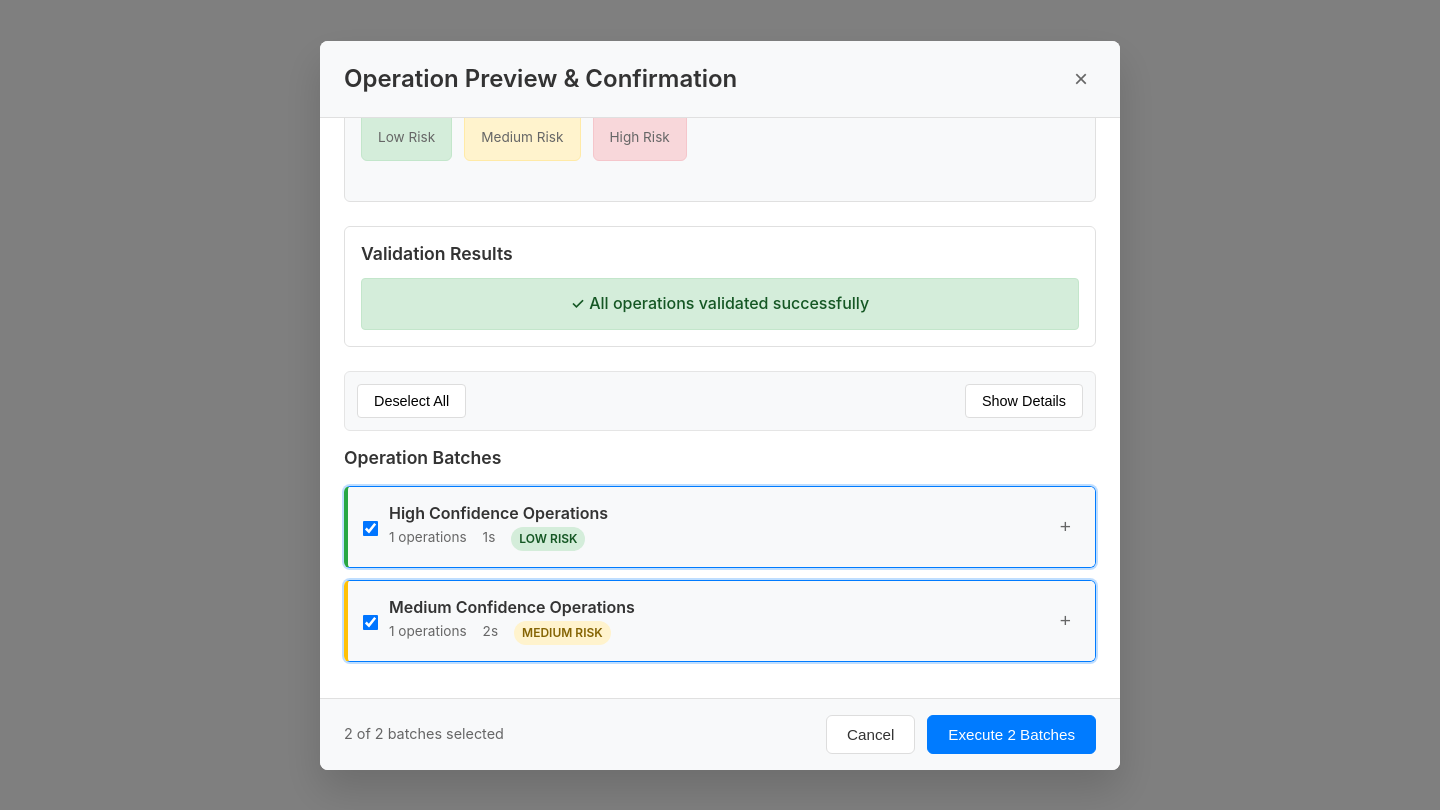
Scenario: OperationPreviewModal › Batch Expansion › should expand batch to show operations
(page scrolled)
Click the button named "Expand batch" at (1065, 527), box x1=1052 y1=512 x2=1079 y2=542
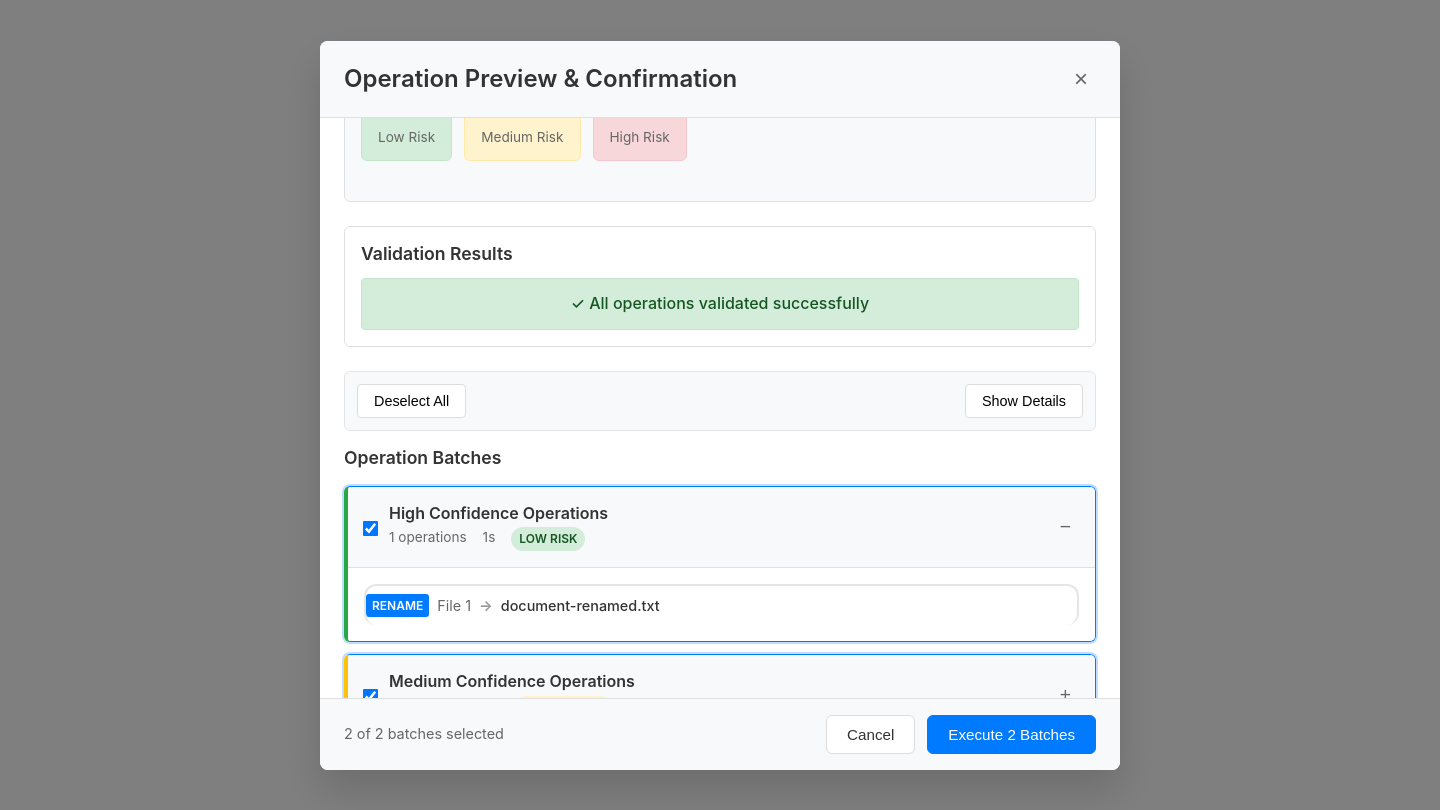
Expected: the text "document-renamed.txt" is shown, x1=501 y1=594 x2=660 y2=617
Expected: the text "File 1" is shown, x1=437 y1=594 x2=471 y2=617
